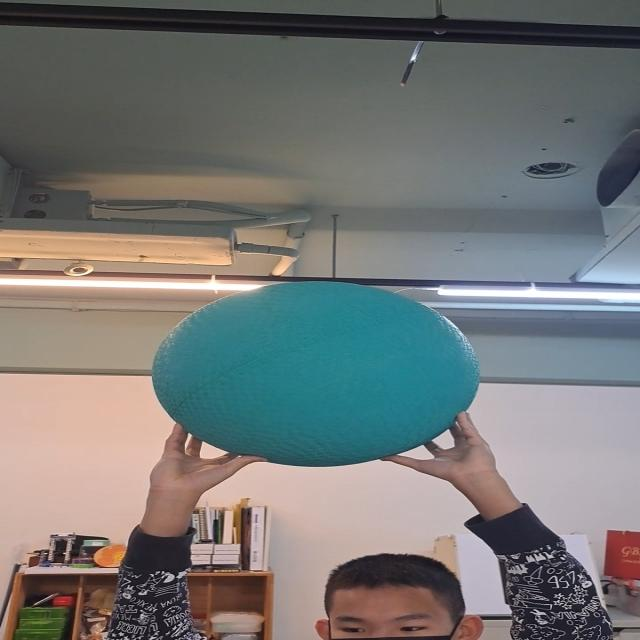ALGAE: (151, 282, 480, 469)
